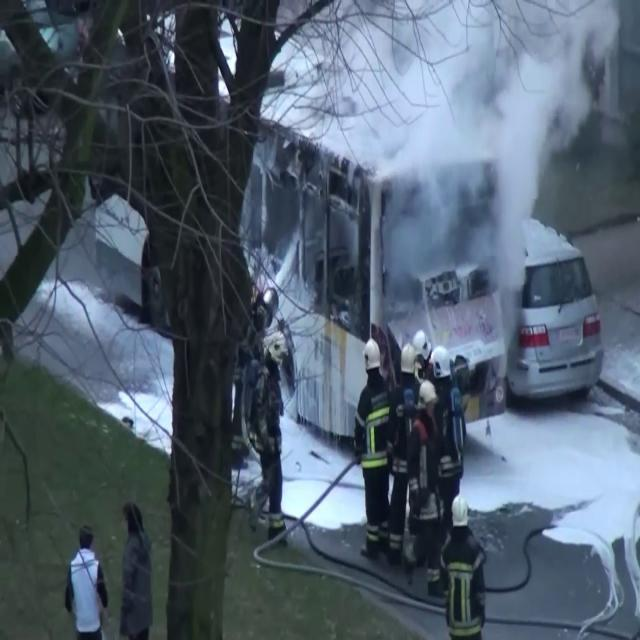Smoke: (357, 0, 619, 376)
